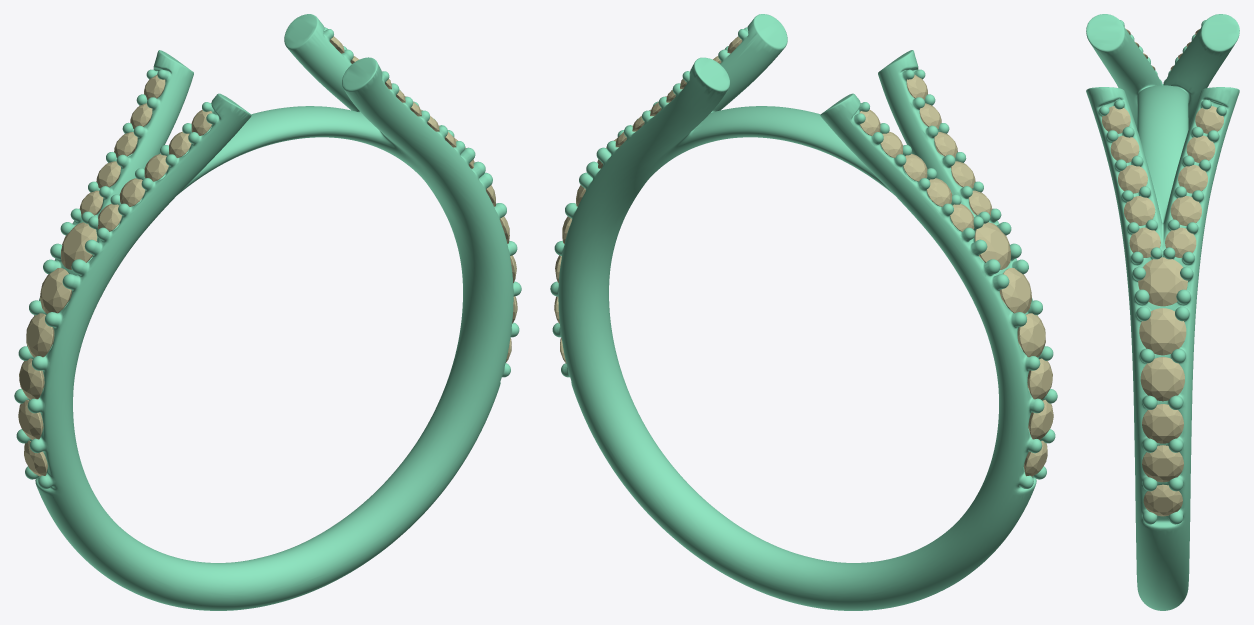
The picture shows the model from 3 angles, left to right: view 1: azimuth 30°, elevation 25°; view 2: azimuth 150°, elevation 25°; view 3: azimuth 270°, elevation 25°; orthographic projection. The views are drawn at different scales.
Parts seen in each view (by area): view 1: Metal02, Diamond_Gem.029, Diamond_Gem.028, Diamond_Gem.026, Diamond_Gem.027; view 2: Metal02, Diamond_Gem.029, Diamond_Gem.028, Diamond_Gem.026, Diamond_Gem.027; view 3: Metal02, Diamond_Gem.002, Diamond_Gem.003, Diamond_Gem.005, Diamond_Gem.004, Diamond_Gem, Diamond_Gem.001, Diamond_Gem.009, Diamond_Gem.010, Diamond_Gem.008, Diamond_Gem.011, Diamond_Gem.007 (+5 smaller).
Part boxes in pixels (x1,y1,x2,y2): Metal02: (14, 14, 521, 610); Diamond_Gem.029: (61, 222, 97, 269); Diamond_Gem.028: (40, 268, 71, 313); Diamond_Gem.026: (26, 313, 54, 357); Diamond_Gem.027: (19, 358, 44, 399); Metal02: (550, 14, 1057, 610); Diamond_Gem.029: (974, 222, 1010, 269); Diamond_Gem.028: (999, 267, 1031, 313); Diamond_Gem.026: (1017, 313, 1045, 357); Diamond_Gem.027: (1027, 358, 1052, 399); Metal02: (1086, 14, 1239, 610); Diamond_Gem.002: (1138, 257, 1187, 306); Diamond_Gem.003: (1139, 308, 1186, 355); Diamond_Gem.005: (1140, 357, 1184, 401); Diamond_Gem.004: (1142, 404, 1183, 443); Diamond_Gem: (1142, 445, 1183, 482); Diamond_Gem.001: (1143, 484, 1182, 516); Diamond_Gem.009: (1170, 196, 1201, 225); Diamond_Gem.010: (1124, 196, 1155, 225); Diamond_Gem.008: (1165, 227, 1196, 257); Diamond_Gem.011: (1129, 227, 1160, 257); Diamond_Gem.007: (1178, 165, 1207, 193).
Size of the model in its own units: 21.25 by 22.54 by 5.87.
